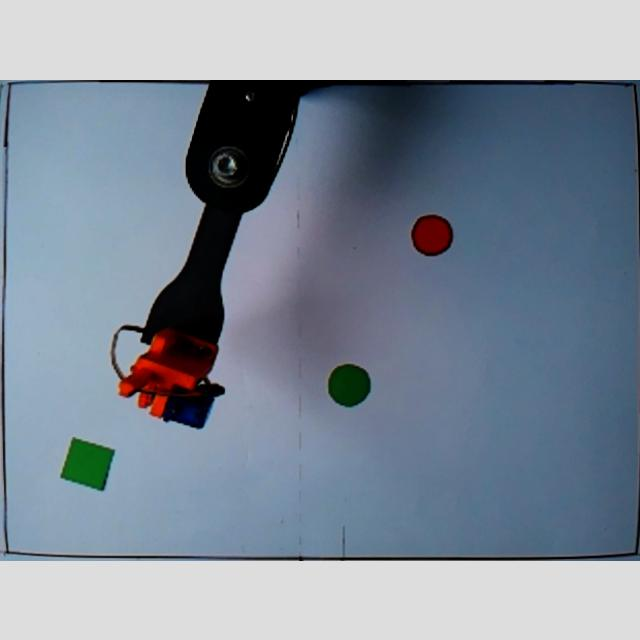greenCircle: (328, 362, 372, 406)
greenSquare: (59, 436, 113, 490)
redCircle: (410, 213, 452, 257)
